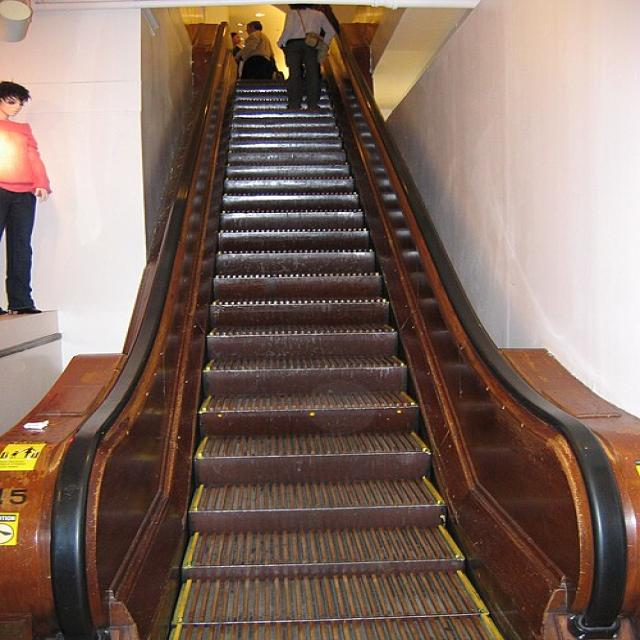escalator: (0, 5, 639, 639)
